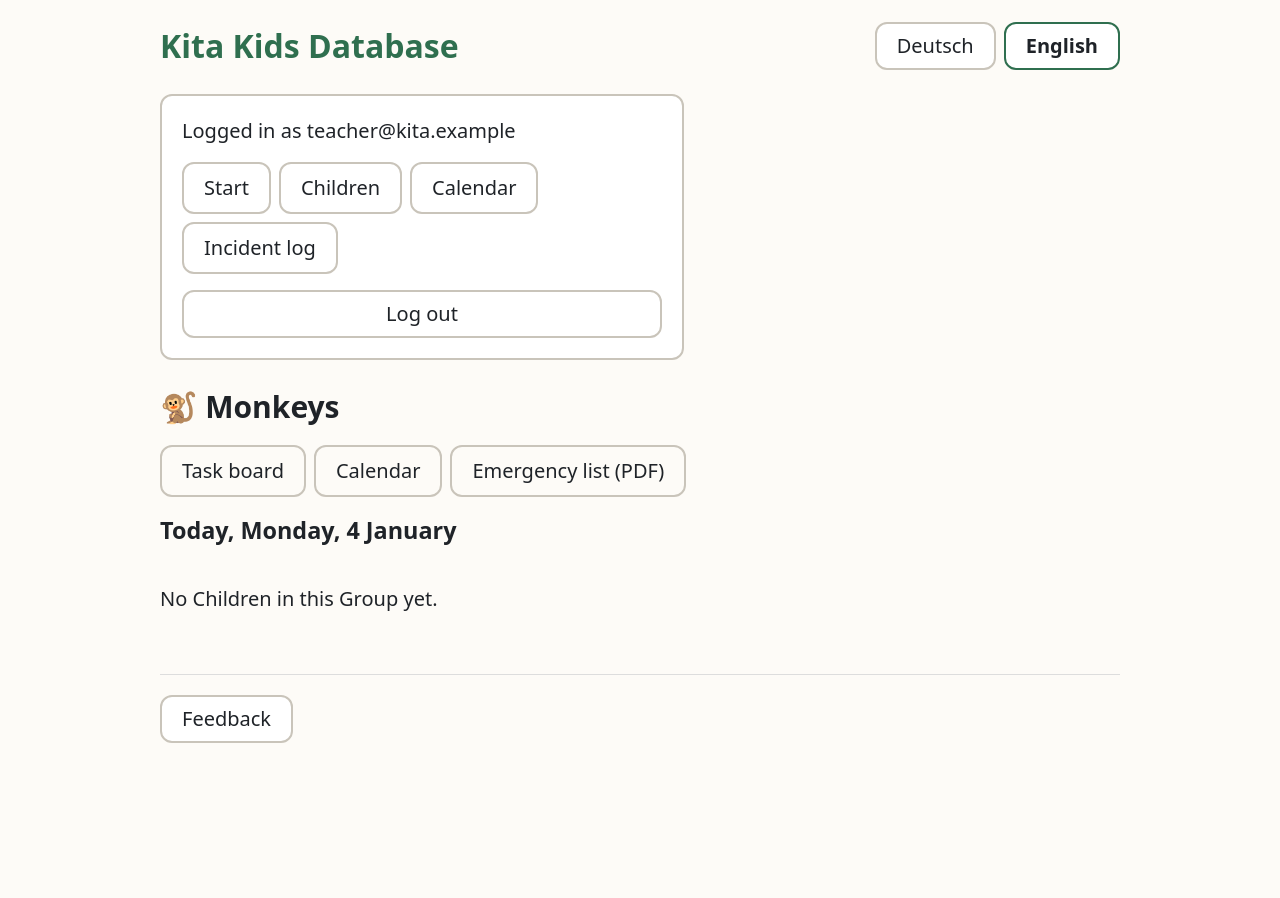
Test case: Calendar › shows a Group’s calendar, reached from its dashboard
Click the link "Calendar" next to "Task board": (378, 471) x1=314 y1=445 x2=442 y2=497
(page scrolled)
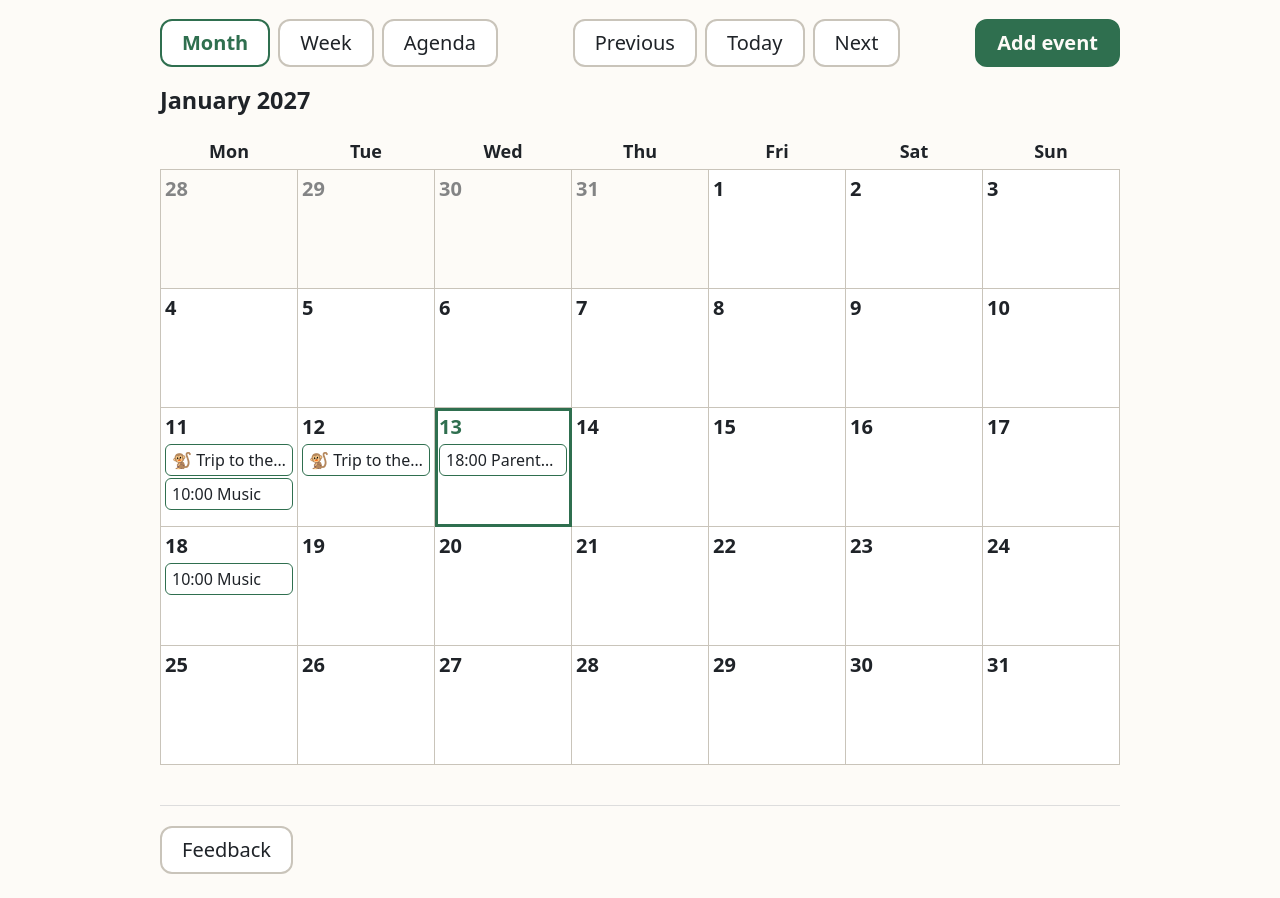
Expected: the table named "January 2027" is shown, x1=160 y1=134 x2=1120 y2=765
